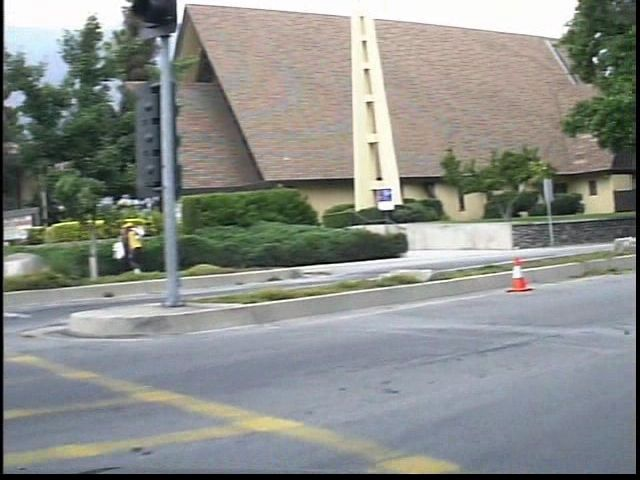person: (134, 217, 168, 277)
